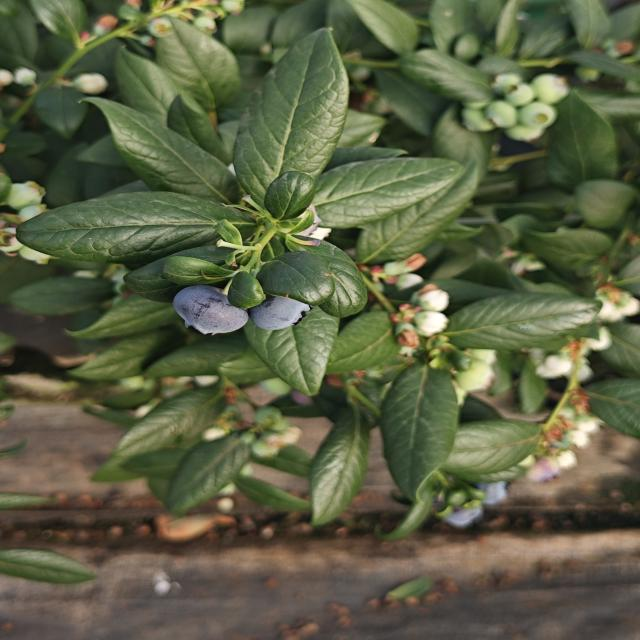ripe: (170, 282, 252, 338), (246, 293, 314, 333), (469, 473, 516, 507), (438, 497, 484, 527)
